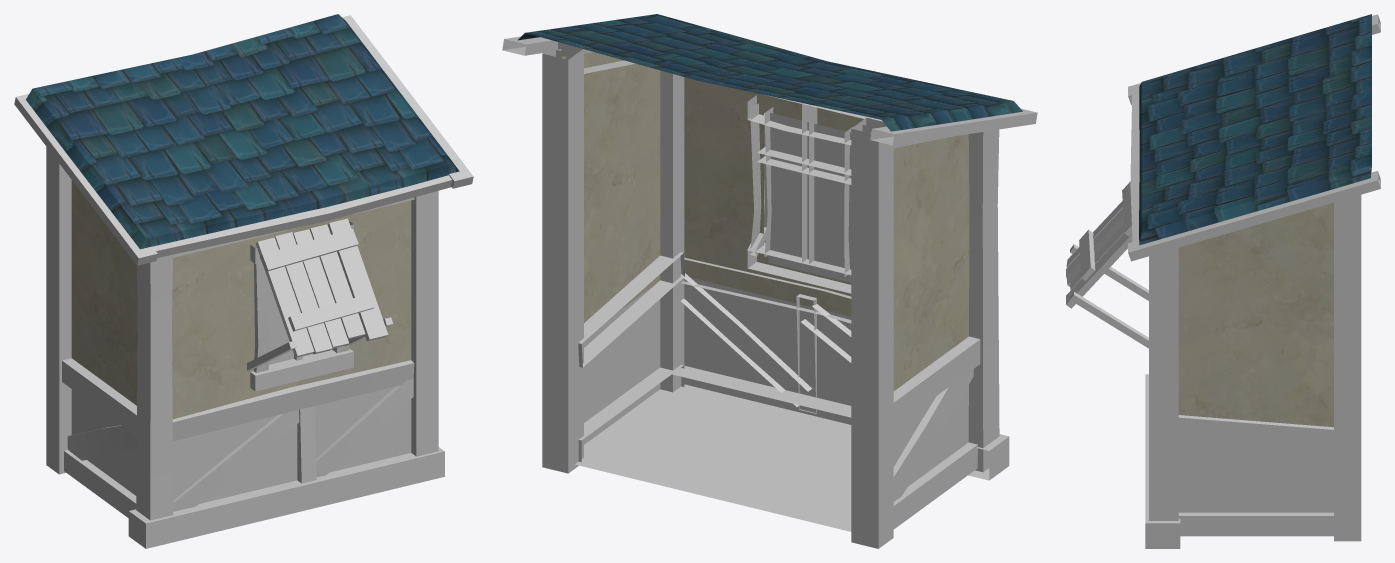
File: A_Addon_Window_E.fbx
The picture shows the model from 3 angles, left to right: view 1: azimuth 30°, elevation 25°; view 2: azimuth 150°, elevation 25°; view 3: azimuth 270°, elevation 25°; orthographic projection. The views are drawn at different scales.
Parts seen in each view (by area): view 1: A_Addon_Window_E_KitParts, A_Addon_Window_E_Tiles, A_Addon_Window_E; view 2: A_Addon_Window_E_KitParts, A_Addon_Window_E, A_Addon_Window_E_Tiles; view 3: A_Addon_Window_E_KitParts, A_Addon_Window_E_Tiles, A_Addon_Window_E.
Part boxes in pixels (bbox=[...]): A_Addon_Window_E_KitParts: bbox=[14, 15, 473, 548]; A_Addon_Window_E_Tiles: bbox=[26, 14, 459, 249]; A_Addon_Window_E: bbox=[71, 180, 411, 419]; A_Addon_Window_E_KitParts: bbox=[502, 36, 1037, 548]; A_Addon_Window_E: bbox=[561, 52, 969, 390]; A_Addon_Window_E_Tiles: bbox=[518, 14, 1022, 131]; A_Addon_Window_E_KitParts: bbox=[1066, 14, 1380, 548]; A_Addon_Window_E_Tiles: bbox=[1139, 14, 1371, 245]; A_Addon_Window_E: bbox=[1178, 202, 1333, 427].
Size of the model in its own units: 274 by 297 by 219.
